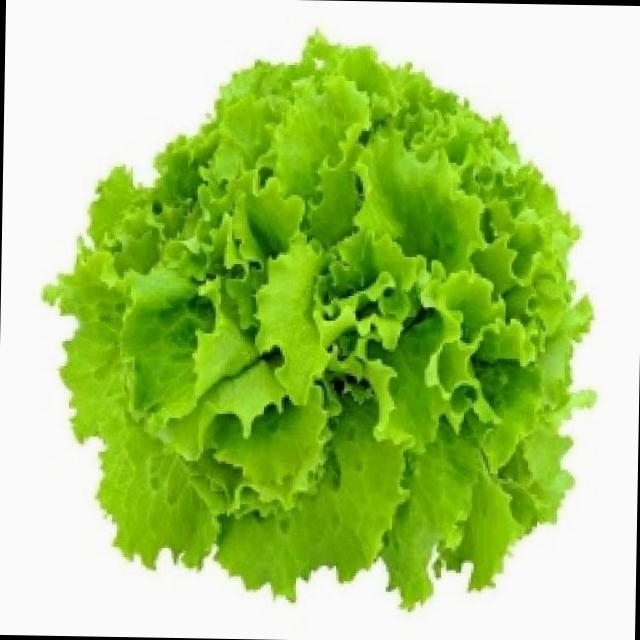Lettuce-Ready-to-Harvest: (45, 36, 590, 605)
